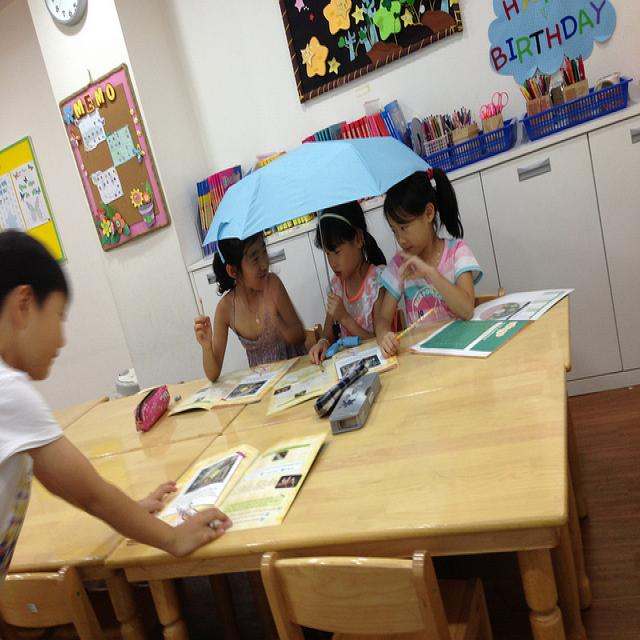chair: (260, 549, 468, 637), (1, 569, 107, 639), (474, 288, 505, 307), (303, 324, 323, 352), (397, 306, 408, 334)
dining table: (102, 366, 585, 632), (233, 298, 572, 429), (7, 441, 214, 601), (59, 356, 297, 462)
